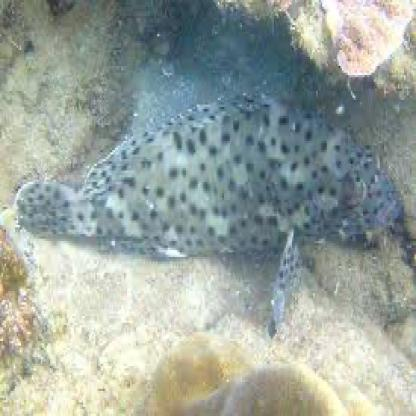grouper: (10, 76, 405, 344)
